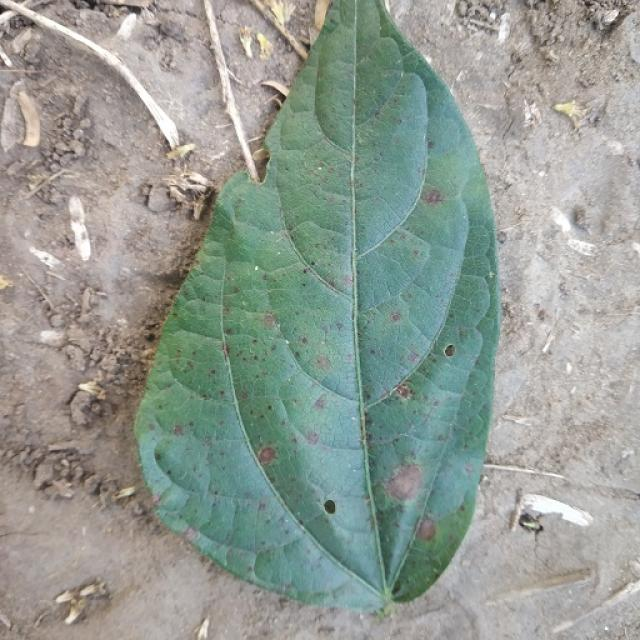Anthracnose: (381, 456, 430, 508), (256, 441, 285, 471), (424, 188, 442, 204), (395, 384, 412, 399), (322, 499, 337, 515), (442, 343, 456, 358), (305, 431, 319, 445), (313, 396, 326, 411), (316, 356, 329, 369), (184, 527, 197, 540), (263, 313, 276, 325), (391, 583, 402, 596), (172, 424, 183, 436), (390, 311, 401, 322), (408, 353, 419, 363), (465, 464, 475, 474), (222, 344, 229, 357), (335, 322, 344, 330), (427, 141, 434, 149), (300, 337, 308, 344), (369, 349, 376, 355), (302, 268, 308, 274), (267, 405, 272, 411)
Blackgram: (138, 0, 498, 610)
